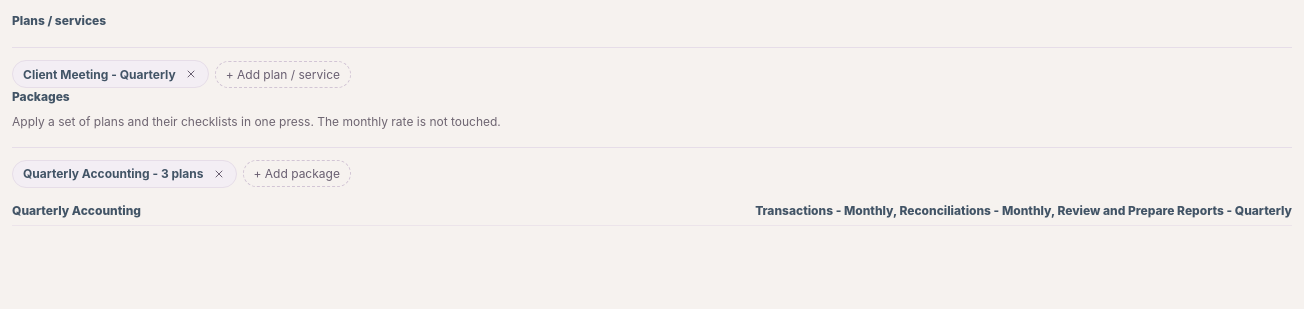
Test: the remove prompt and the hint belong to one client › shows no remove prompt on the next client after navigating with it open
Step 1. Click the button named "Remove Quarterly Accounting" → (218, 174), box [210,165,228,183]
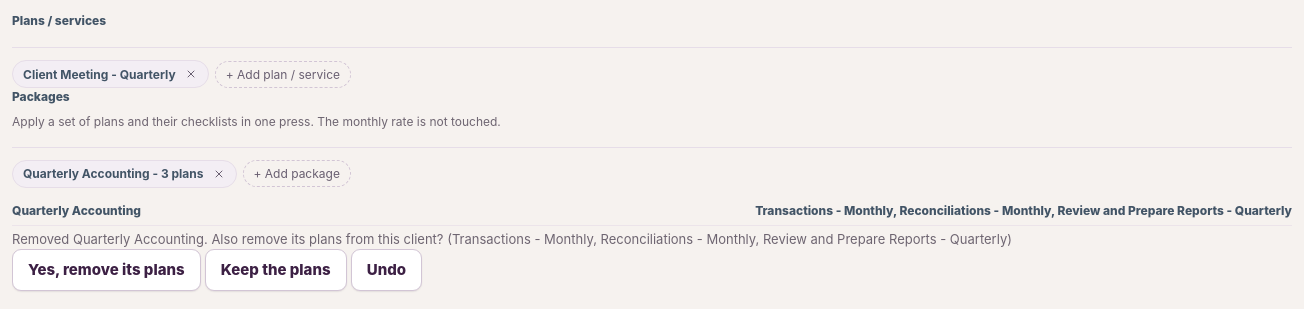
Now the text "Also remove its plans from this client?" is shown, box [204,231,452,247]
